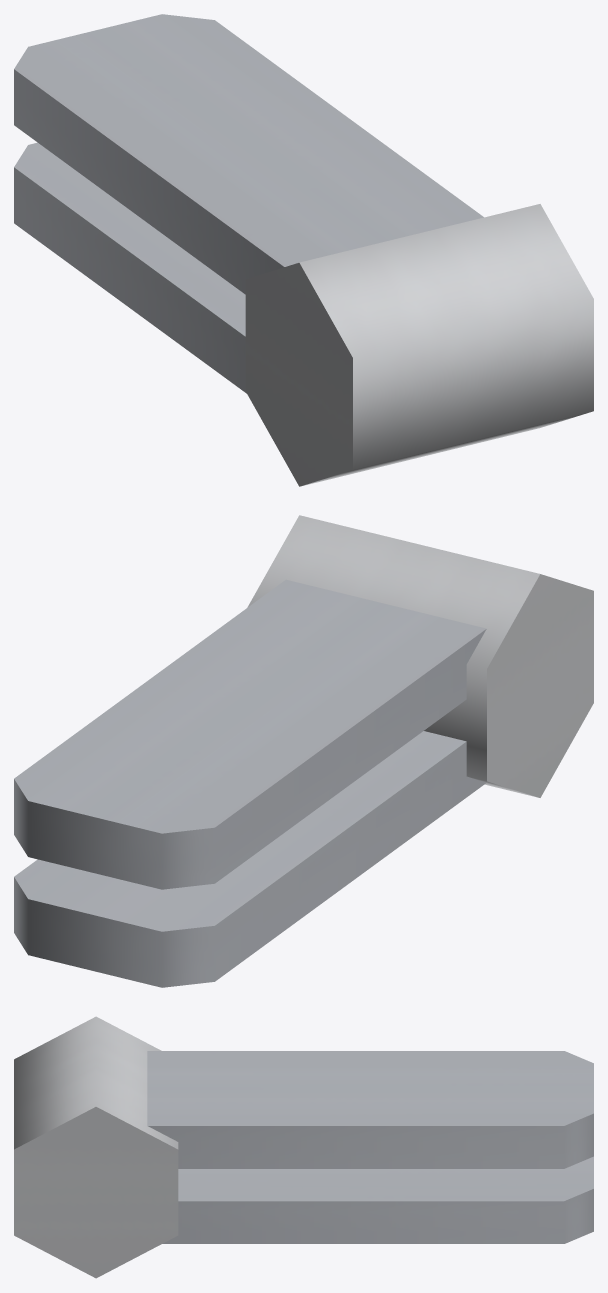
The model's file is acland_clamp.glb.
The picture shows the model from 3 angles, top to bottom: view 1: azimuth 30°, elevation 25°; view 2: azimuth 150°, elevation 25°; view 3: azimuth 270°, elevation 25°; orthographic projection. The views are drawn at different scales.
Visible parts, largest first — view 1: m4_acland_clamp; view 2: m4_acland_clamp; view 3: m4_acland_clamp.
Part boxes in pixels (x1,y1,x2,y2): m4_acland_clamp: (14,14,593,486); m4_acland_clamp: (14,515,593,987); m4_acland_clamp: (14,1016,593,1278).
Size of the model in its own units: 0.0036 by 0.0032 by 0.00979.
1 material, 1 textured.
